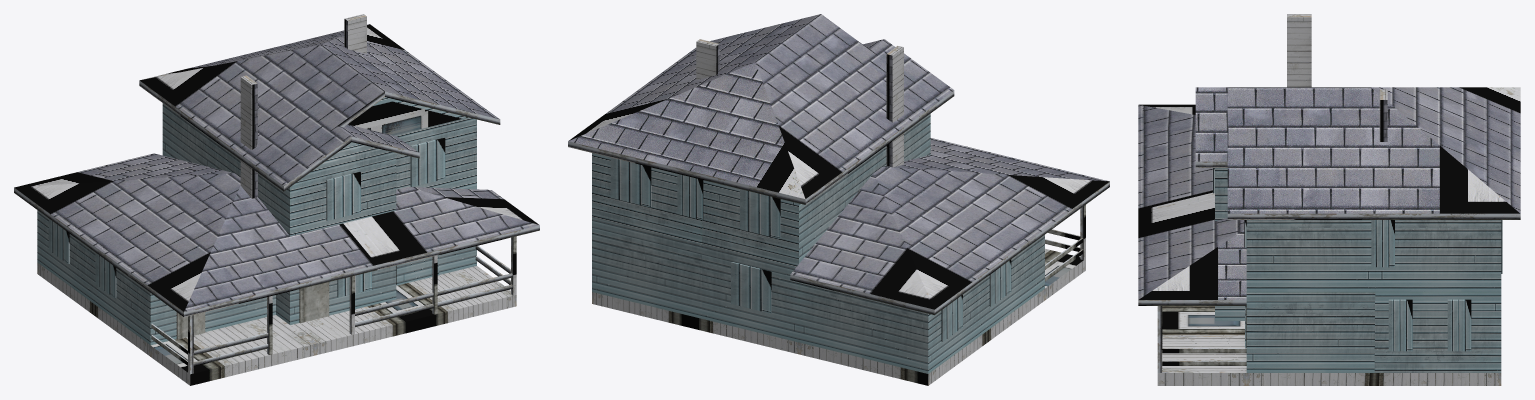
Rendered from houseCLOD.FBX.
3 views of the same model, side by side, from view 1: azimuth 30°, elevation 25°; view 2: azimuth 150°, elevation 25°; view 3: azimuth 270°, elevation 25° (orthographic). The views are drawn at different scales.
Visible parts, largest first — view 1: houseCLOD; view 2: houseCLOD; view 3: houseCLOD.
Part boxes in pixels (x1,y1,x2,y2): houseCLOD: (14, 14, 539, 385); houseCLOD: (568, 14, 1109, 385); houseCLOD: (1138, 14, 1520, 385).
Bounding box in the file's own units: 368 × 227 × 305.
